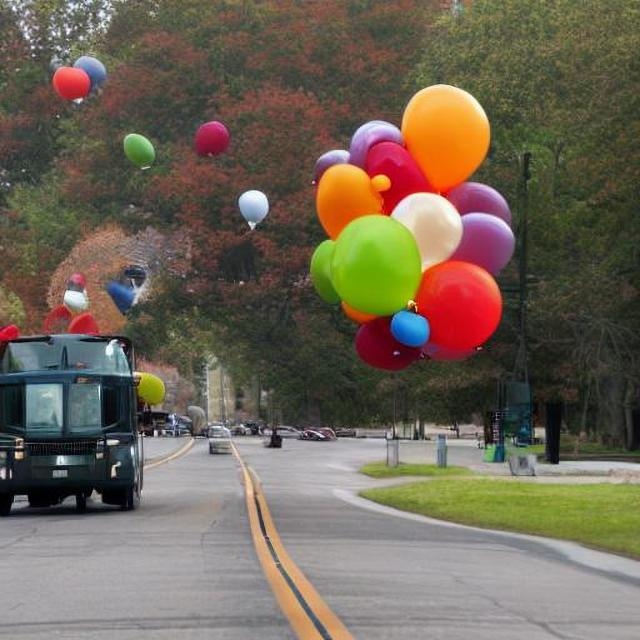balloon: (302, 85, 517, 386), (186, 117, 233, 163), (59, 52, 108, 96), (46, 61, 92, 103), (235, 187, 268, 224), (121, 131, 154, 166)
